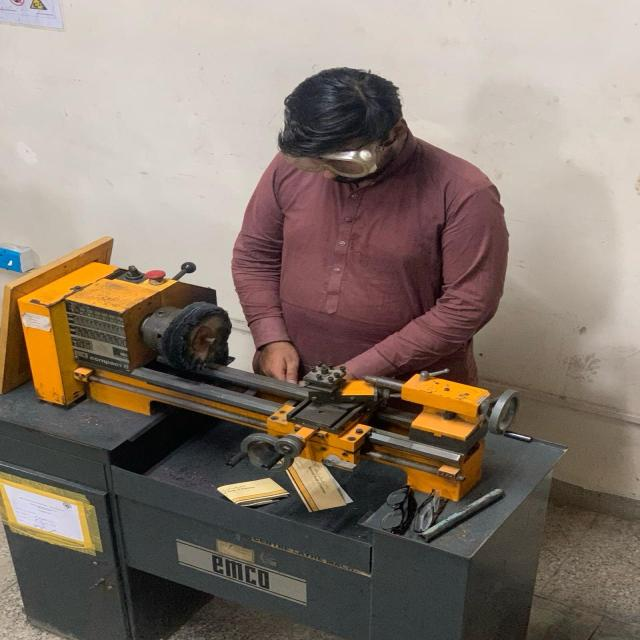googles: (283, 148, 380, 178)
